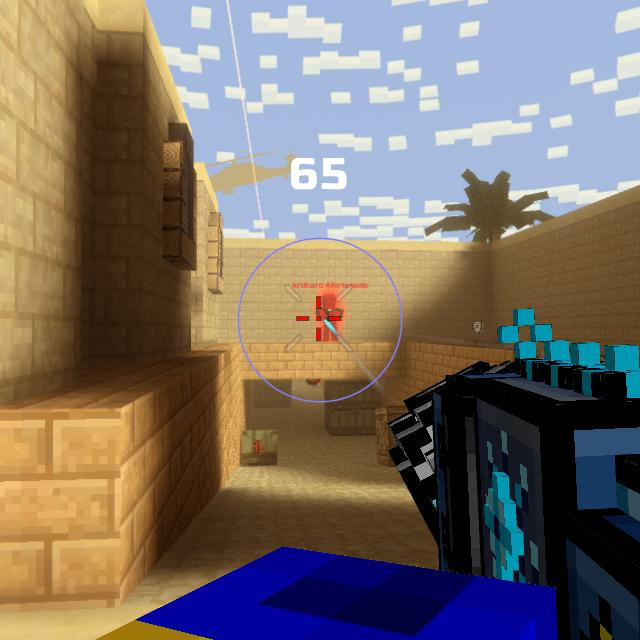Enemy: (316, 294, 344, 342)
